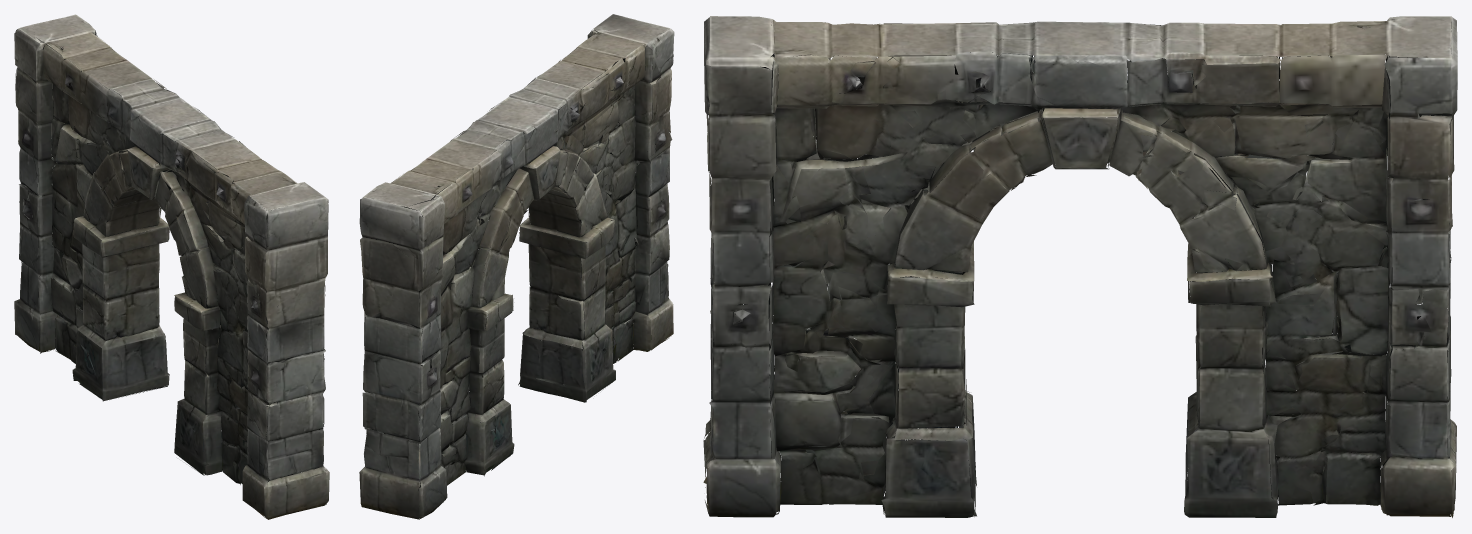
File: DungeonWall_Doorway_Arch_Alpha_S1337_Retopo16000.glb
The picture shows the model from 3 angles, left to right: view 1: azimuth 30°, elevation 25°; view 2: azimuth 150°, elevation 25°; view 3: azimuth 270°, elevation 25°; orthographic projection. The views are drawn at different scales.
Visible parts, largest first — view 1: world; view 2: world; view 3: world.
Part boxes in pixels (x1=…): world: x1=14, y1=14, x2=329, y2=519; world: x1=359, y1=14, x2=674, y2=519; world: x1=703, y1=16, x2=1457, y2=517.
Bounding box in the file's own units: 0.1601 × 0.6797 × 1.
Materials: 1 (1 with a texture image).
